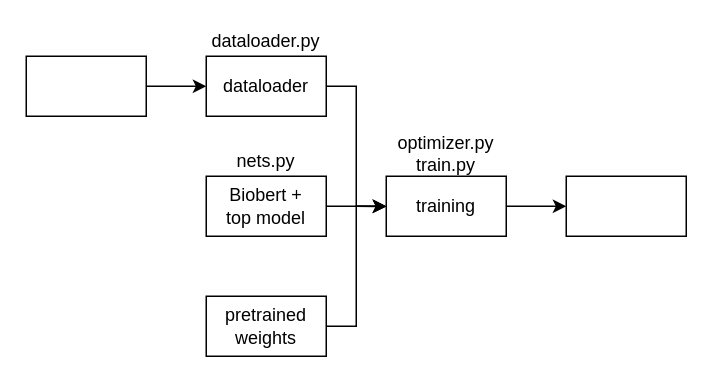
This 713x383 diagram has some shape labels left out. The shapes that lost their labels are listed below. From the top down, each one's centre as x and y in pixels, then its label:
At point 85,85: "inputs".
At point 625,205: "weights".
